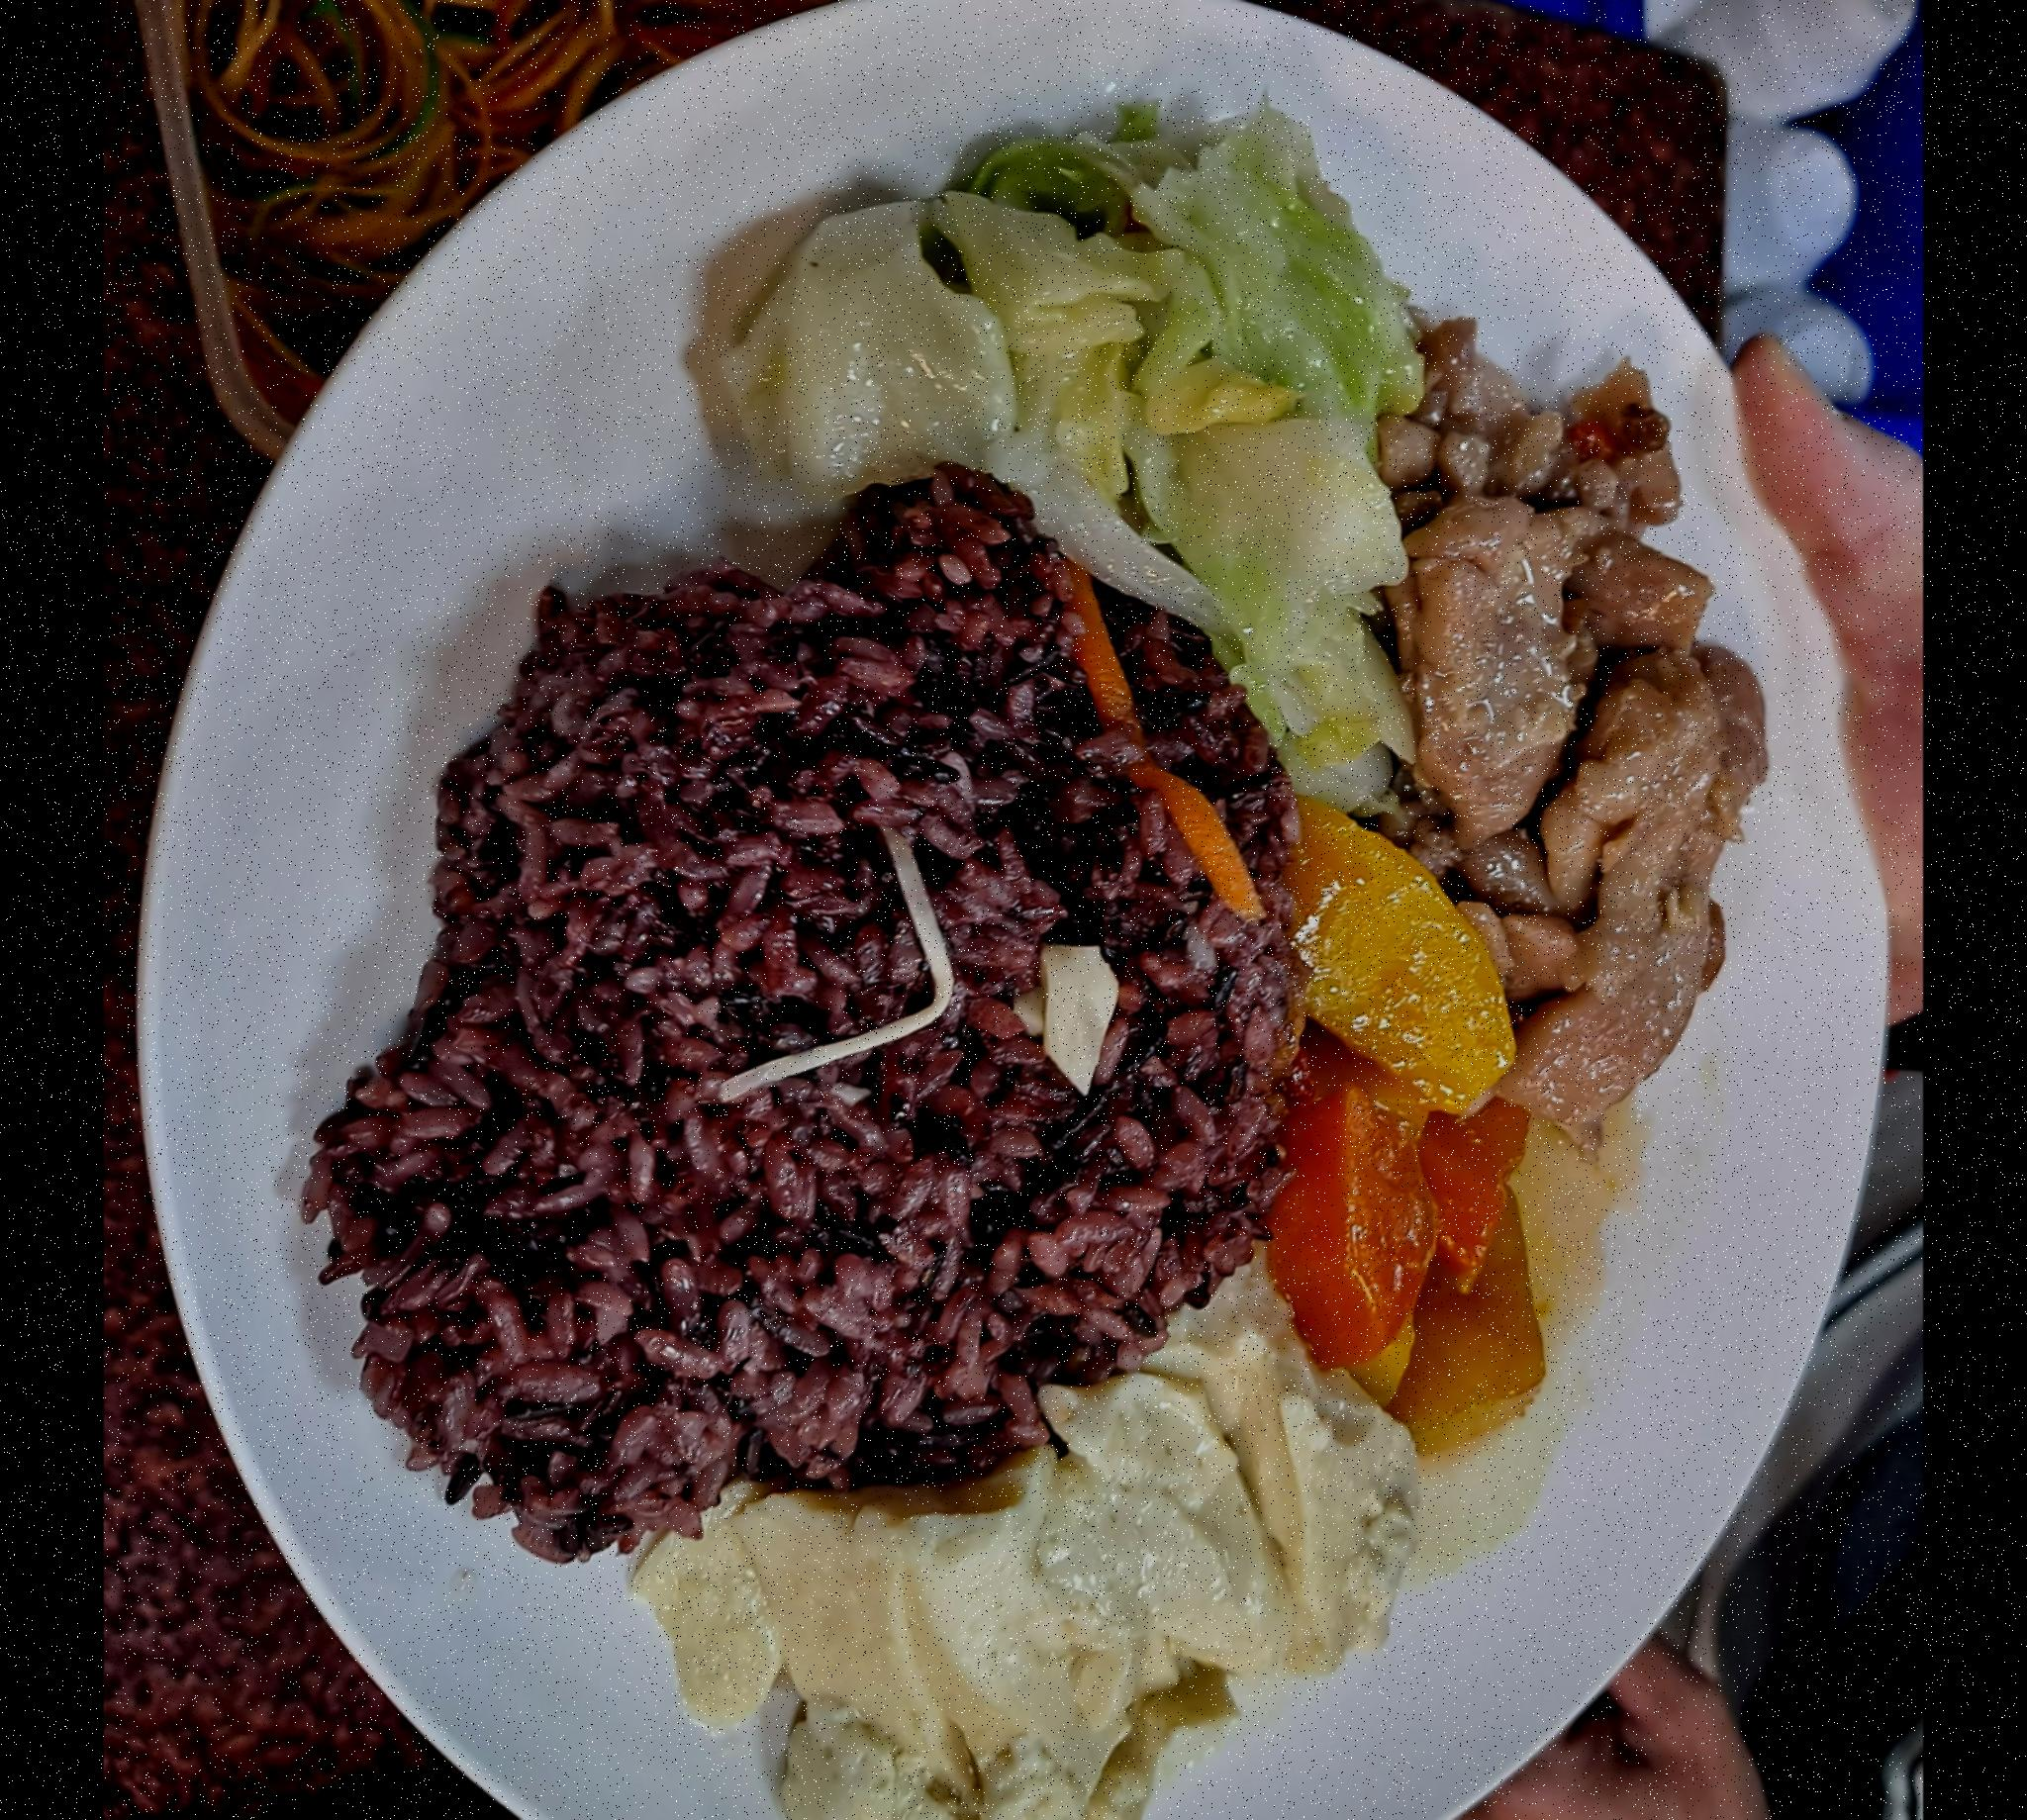big fried chicken leg: (144, 0, 1881, 1820)
braised fish: (304, 495, 1295, 1537)
braised fish fillet: (701, 100, 1416, 794), (657, 1277, 1416, 1820), (1265, 808, 1551, 1460)
braised pork: (1377, 327, 1767, 1123)
